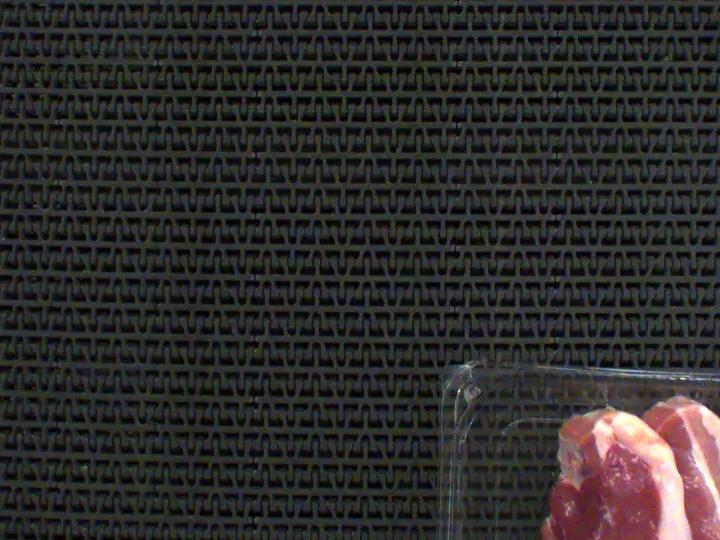packaging-error: (576, 377, 624, 414), (669, 379, 700, 401)
